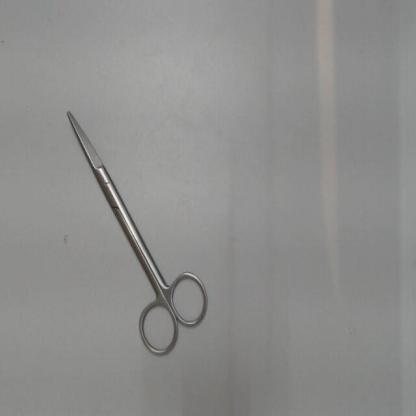Curved Mayo Scissors: (60, 107, 216, 363)
